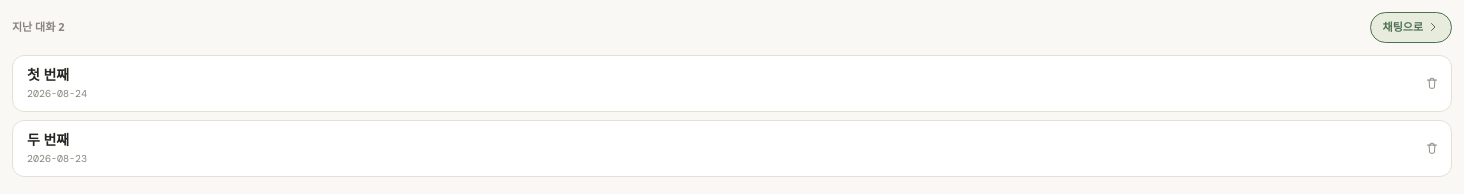
Test case: ChatbotTab — 대화 이력 › 2026-08-25: 다른 항목을 삭제하려고 누르면 이전 확인 대기는 풀린다
Click the 1st button named "대화 삭제" at (1432, 83), box [1419,70,1445,96]
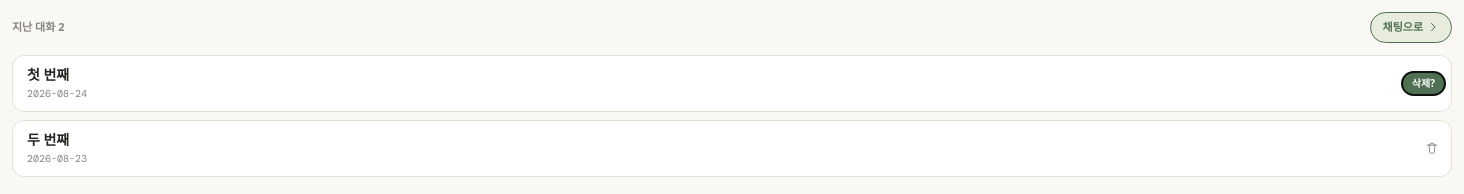
Click the button named "대화 삭제" at (1432, 148), box [1419,135,1445,161]
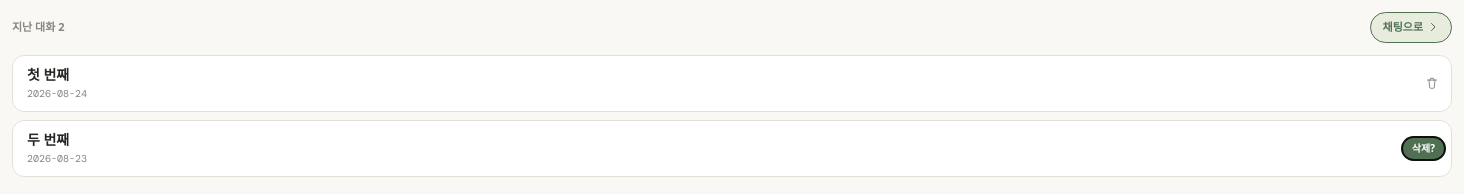
Check: the button named "대화 삭제" is shown, box [1419,70,1445,96]
